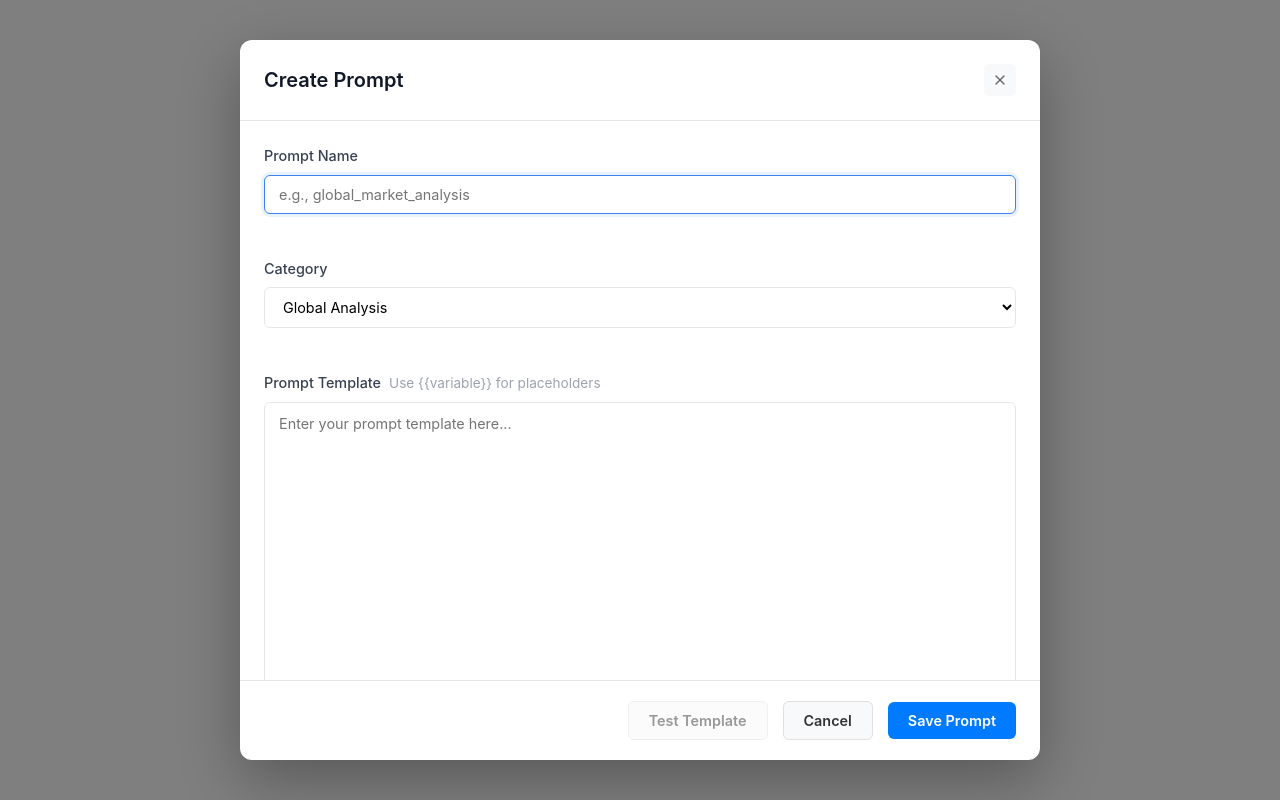
Test: PromptEditor › Form Validation › should show validation error for empty name
Click the button "Save Prompt".
click(952, 720)  # box [888, 702, 1016, 739]
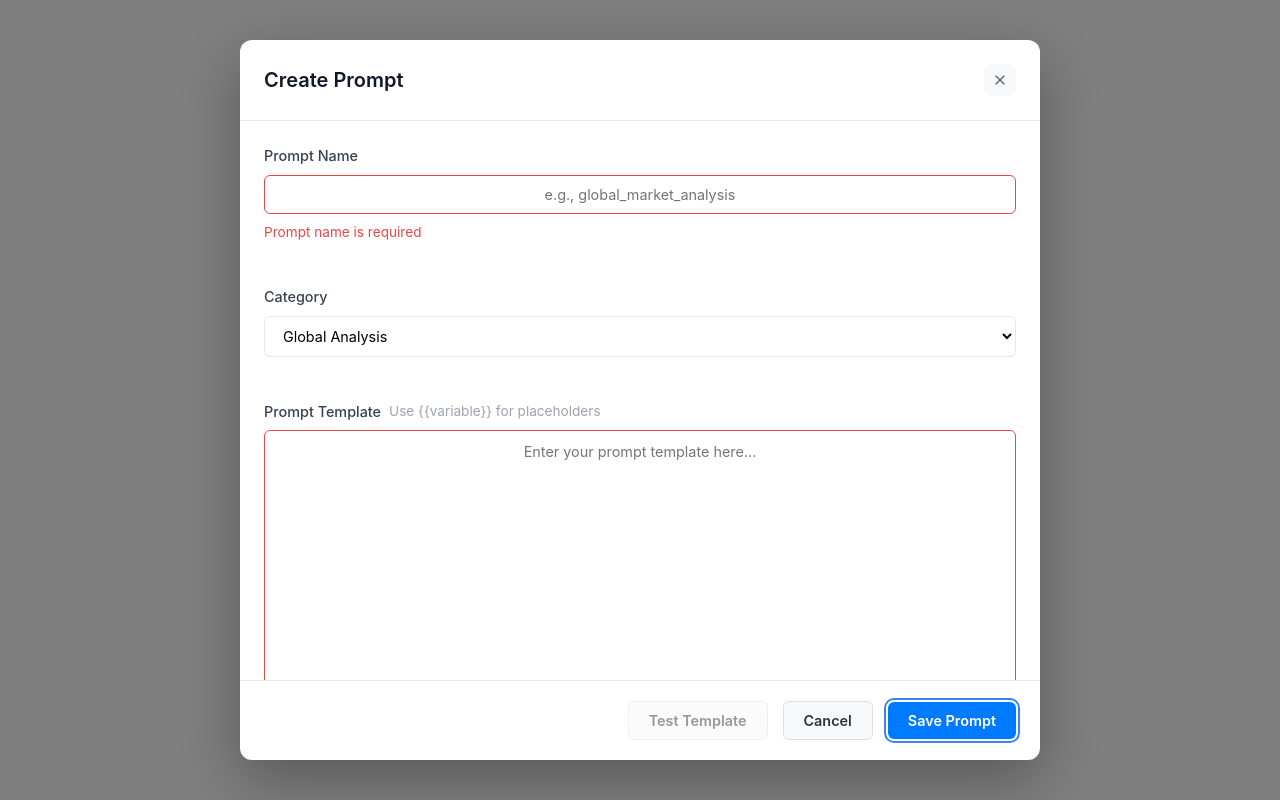
Expected: the text "Prompt name is required" is shown, [264, 224, 422, 240]
